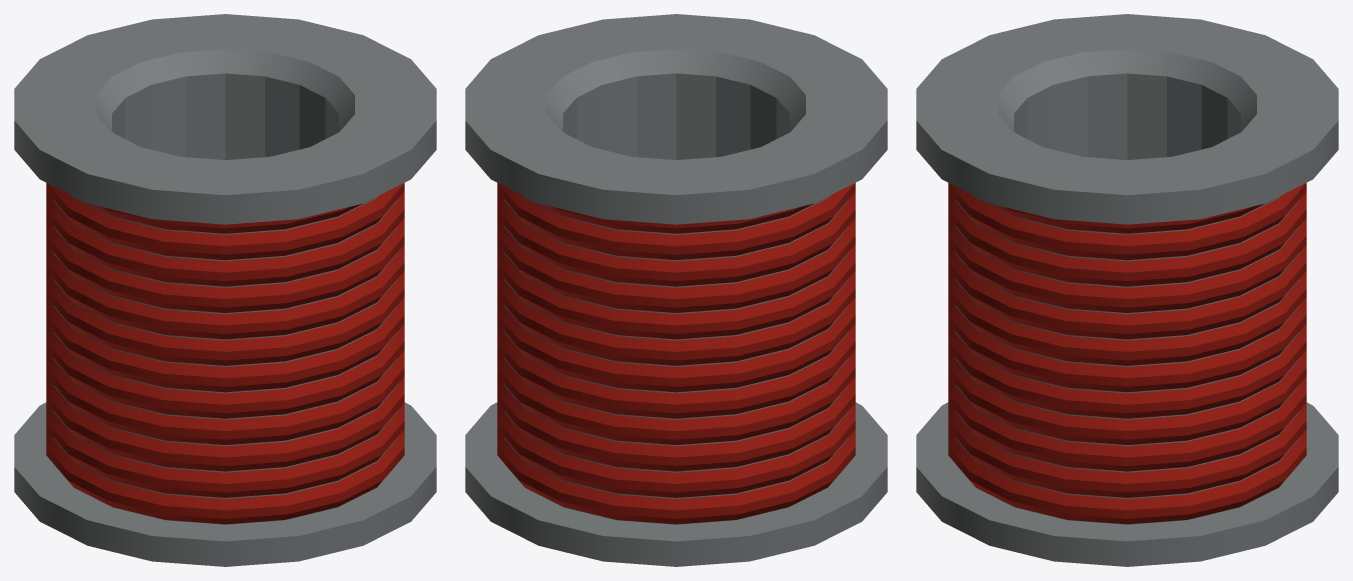
The model's file is Wire Coil.fbx.
3 renders of one model, left to right at view 1: azimuth 30°, elevation 25°; view 2: azimuth 150°, elevation 25°; view 3: azimuth 270°, elevation 25°, orthographic.
Visible parts, largest first — view 1: Wires, Spool_Base; view 2: Wires, Spool_Base; view 3: Wires, Spool_Base.
Boxes of the visible parts, x1,y1,x2,y2 form: Wires: (46, 183, 404, 524); Spool_Base: (14, 14, 436, 566); Wires: (497, 183, 855, 524); Spool_Base: (465, 14, 887, 566); Wires: (948, 183, 1306, 524); Spool_Base: (916, 14, 1338, 566).
Size of the model in its own units: 0.3905 by 0.3735 by 0.3846.
